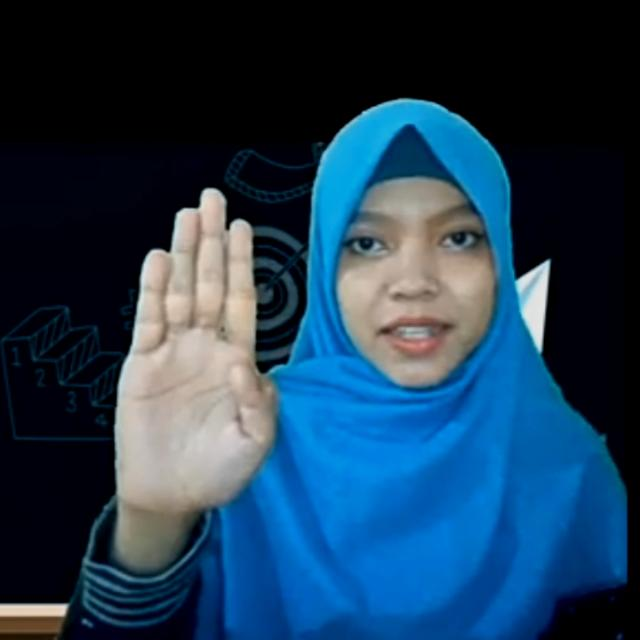B: (112, 188, 278, 518)
